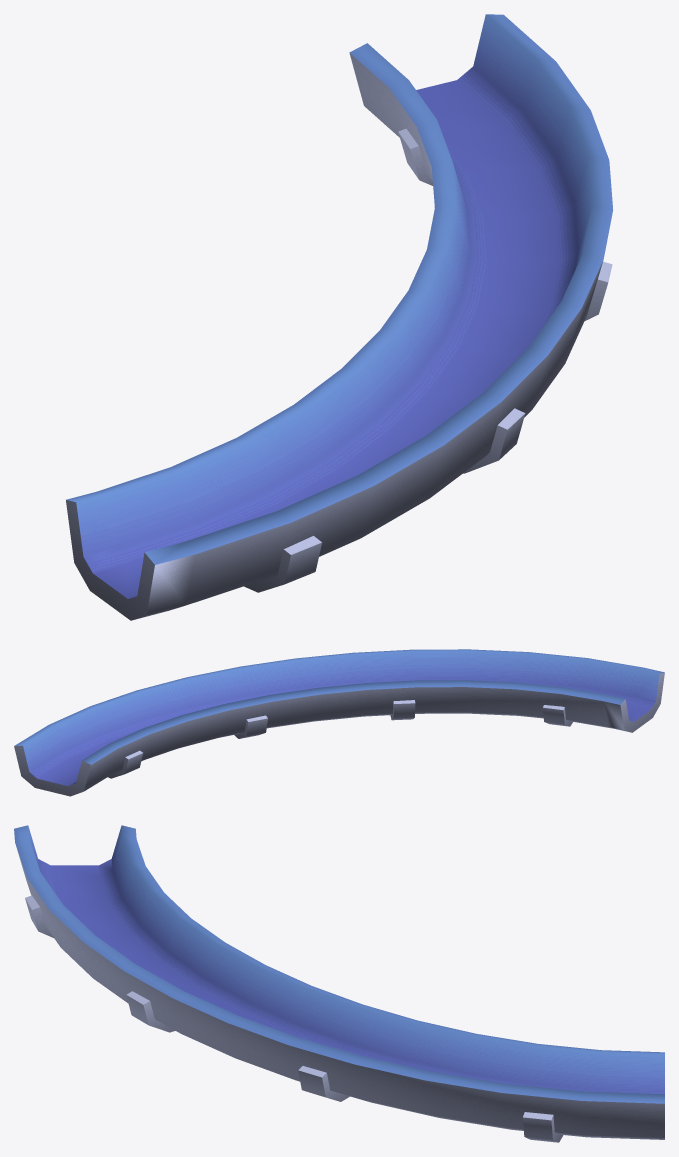
File: coaster-flume-corner-large.glb
3 renders of one model, top to bottom at view 1: azimuth 30°, elevation 25°; view 2: azimuth 150°, elevation 25°; view 3: azimuth 270°, elevation 25°, orthographic. The views are drawn at different scales.
Visible parts, largest first — view 1: coaster-flume-corner-large; view 2: coaster-flume-corner-large; view 3: coaster-flume-corner-large.
Part boxes in pixels (x1,y1,x2,y2): coaster-flume-corner-large: [66, 14, 612, 620]; coaster-flume-corner-large: [14, 649, 664, 796]; coaster-flume-corner-large: [14, 825, 664, 1142].
Bounding box in the file's own units: 13.24 × 1.35 × 13.24.
1 material, 1 textured.
